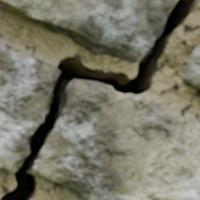brick: (0, 0, 172, 61), (183, 43, 199, 87)
broken_brick: (35, 80, 199, 199), (0, 42, 56, 175)
crack: (0, 0, 199, 199)
